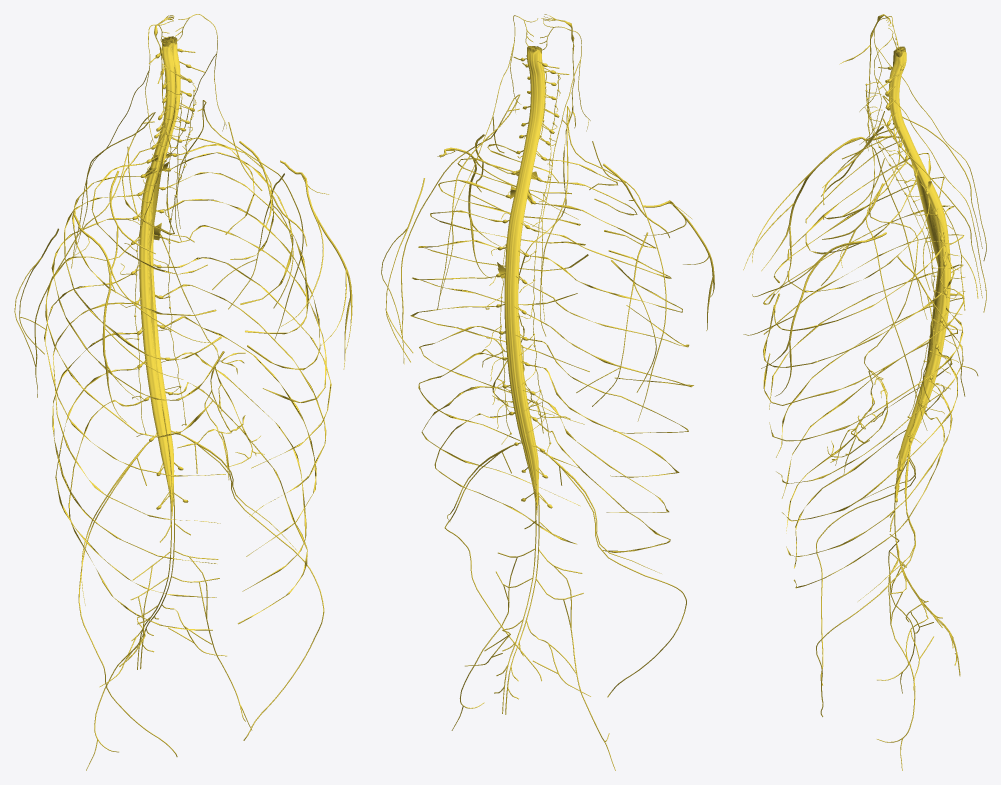
File: nerves.glb
3 views of the same model, side by side, from view 1: azimuth 30°, elevation 25°; view 2: azimuth 150°, elevation 25°; view 3: azimuth 270°, elevation 25° (orthographic). The views are drawn at different scales.
Visible parts, largest first — view 1: Spinal dura.001, Intercostal nerves.r.001, Intercostal nerves.l.001, Vagus nerve (X).r.001, Cauda equina.001, Lateral pectoral nerve.l.001, Lateral pectoral nerve.r.001, Ilio-inguinal nerve.l.001; view 2: Spinal dura.001, Intercostal nerves.l.001, Intercostal nerves.r.001, Cauda equina.001, Vagus nerve (X).r.001, Lateral pectoral nerve.l.001, Accessory nerve (XI).r.001, Accessory nerve (XI).l.001, Long thoracic nerve.r.001; view 3: Spinal dura.001, Intercostal nerves.l.001, Intercostal nerves.r.001, Vagus nerve (X).r.001, Lateral pectoral nerve.l.001, Lateral pectoral nerve.r.001, Cauda equina.001, Accessory nerve (XI).l.001, Long thoracic nerve.l.001, Nerve to quadratus femoris muscle.l.001, Accessory nerve (XI).r.001, Ilio-inguinal nerve.r.001 (+1 smaller).
Part boxes in pixels (box(x1,y1,x2,y2)): Spinal dura.001: box(139, 36, 180, 517); Intercostal nerves.r.001: box(44, 147, 225, 630); Intercostal nerves.l.001: box(161, 137, 331, 624); Vagus nerve (X).r.001: box(154, 15, 264, 480); Cauda equina.001: box(129, 484, 219, 669); Lateral pectoral nerve.l.001: box(280, 160, 352, 369); Lateral pectoral nerve.r.001: box(71, 210, 214, 422); Ilio-inguinal nerve.l.001: box(198, 445, 324, 740); Spinal dura.001: box(497, 46, 545, 515); Intercostal nerves.l.001: box(410, 144, 589, 544); Intercostal nerves.r.001: box(526, 159, 693, 552); Cauda equina.001: box(494, 492, 583, 714); Vagus nerve (X).r.001: box(481, 14, 575, 433); Lateral pectoral nerve.l.001: box(437, 147, 578, 278); Accessory nerve (XI).r.001: box(539, 20, 590, 336); Accessory nerve (XI).l.001: box(437, 15, 538, 309); Long thoracic nerve.r.001: box(562, 107, 666, 421); Spinal dura.001: box(888, 46, 950, 502); Intercostal nerves.l.001: box(763, 159, 964, 588); Intercostal nerves.r.001: box(763, 135, 964, 568); Vagus nerve (X).r.001: box(827, 14, 918, 474); Lateral pectoral nerve.l.001: box(743, 232, 886, 396); Lateral pectoral nerve.r.001: box(743, 136, 886, 294); Cauda equina.001: box(889, 476, 960, 676); Accessory nerve (XI).l.001: box(859, 28, 986, 312); Long thoracic nerve.l.001: box(865, 119, 927, 430); Nerve to quadratus femoris muscle.l.001: box(877, 558, 915, 770); Accessory nerve (XI).r.001: box(859, 16, 986, 260); Ilio-inguinal nerve.r.001: box(816, 455, 915, 685).
Size of the model in its own units: 0.2995 by 0.7633 by 0.2368.
